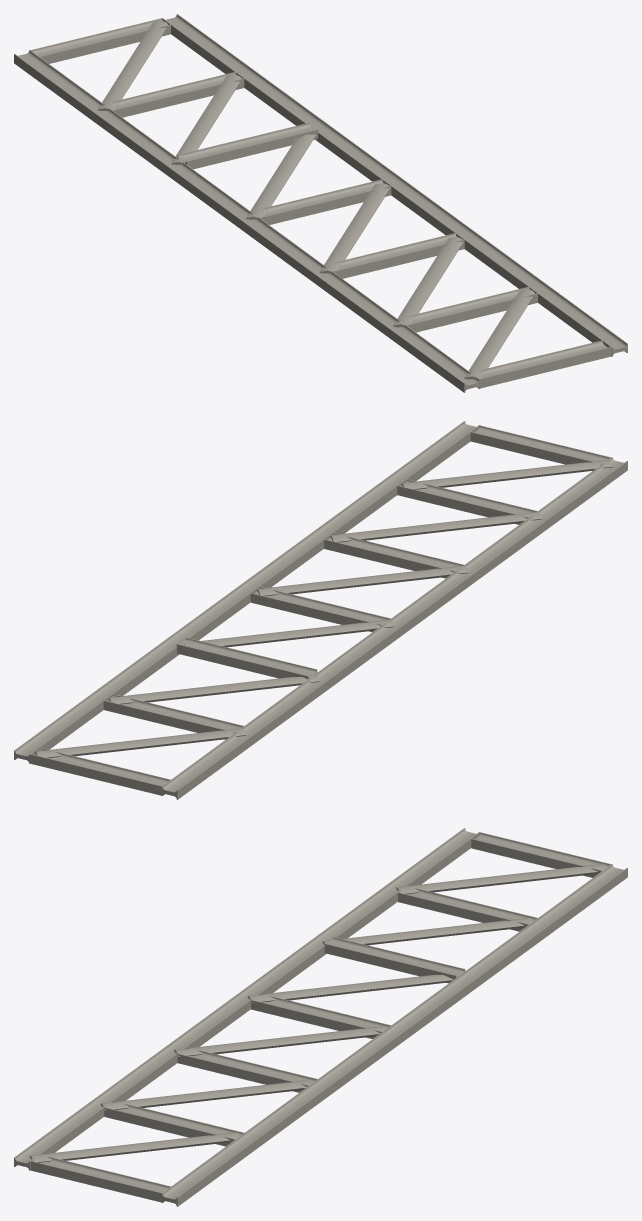
The model's file is metal_supportframe.fbx.
3 views of the same model, one above another, from view 1: azimuth 30°, elevation 25°; view 2: azimuth 150°, elevation 25°; view 3: azimuth 330°, elevation 25° (orthographic).
Visible parts, largest first — view 1: metal_supportframe; view 2: metal_supportframe; view 3: metal_supportframe.
Part boxes in pixels (x1=…): metal_supportframe: x1=14, y1=14, x2=627, y2=392; metal_supportframe: x1=14, y1=421, x2=627, y2=799; metal_supportframe: x1=14, y1=828, x2=627, y2=1206.
Size of the model in its own units: 160 by 11.16 by 761.
